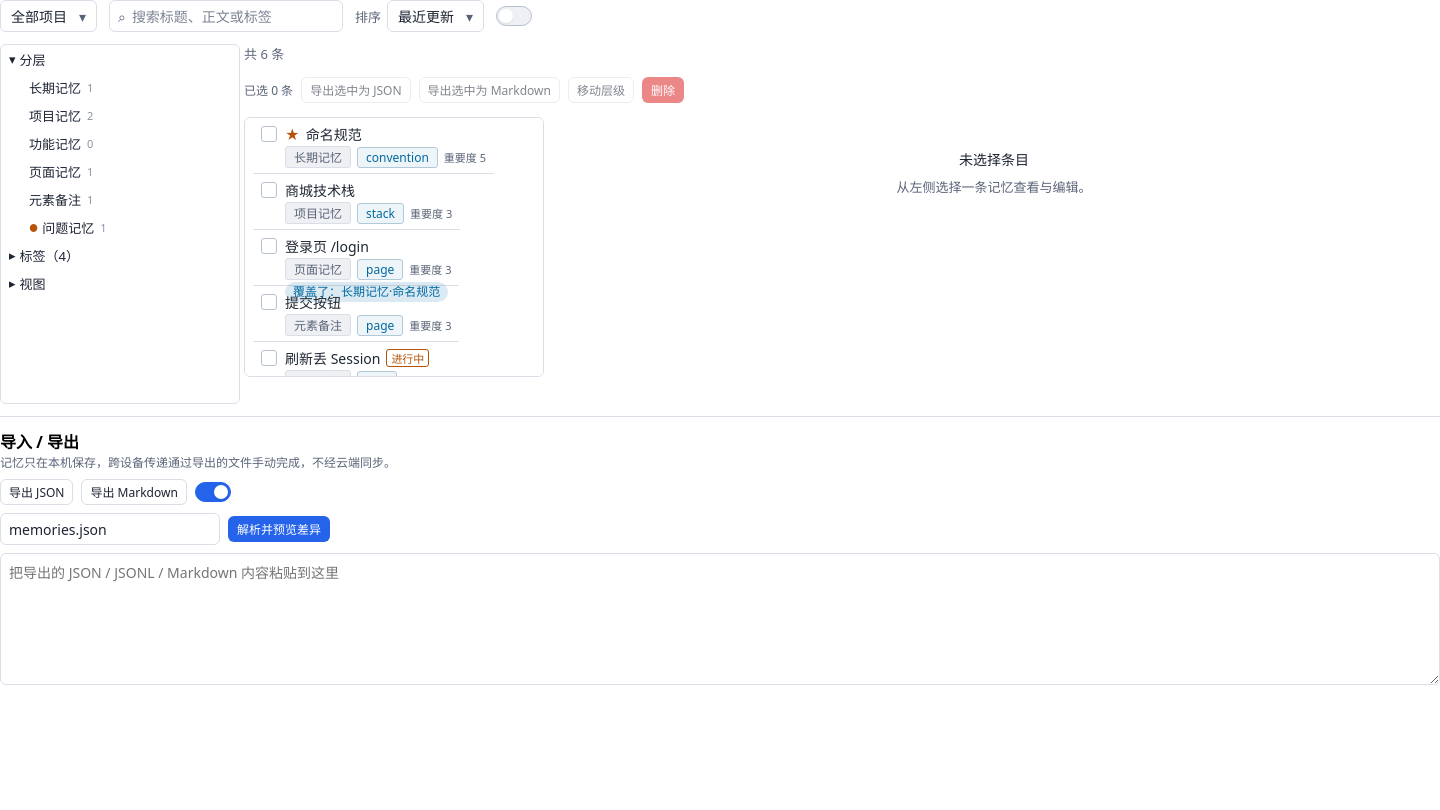
Test case: 记忆中心 › 取消二次确认时不会删除任何条目
What coordinates should you click on to do the following:
click the checkbox named "选择「命名规范」"
I would click on:
 (269, 134)
Its box is [261,126,277,142].
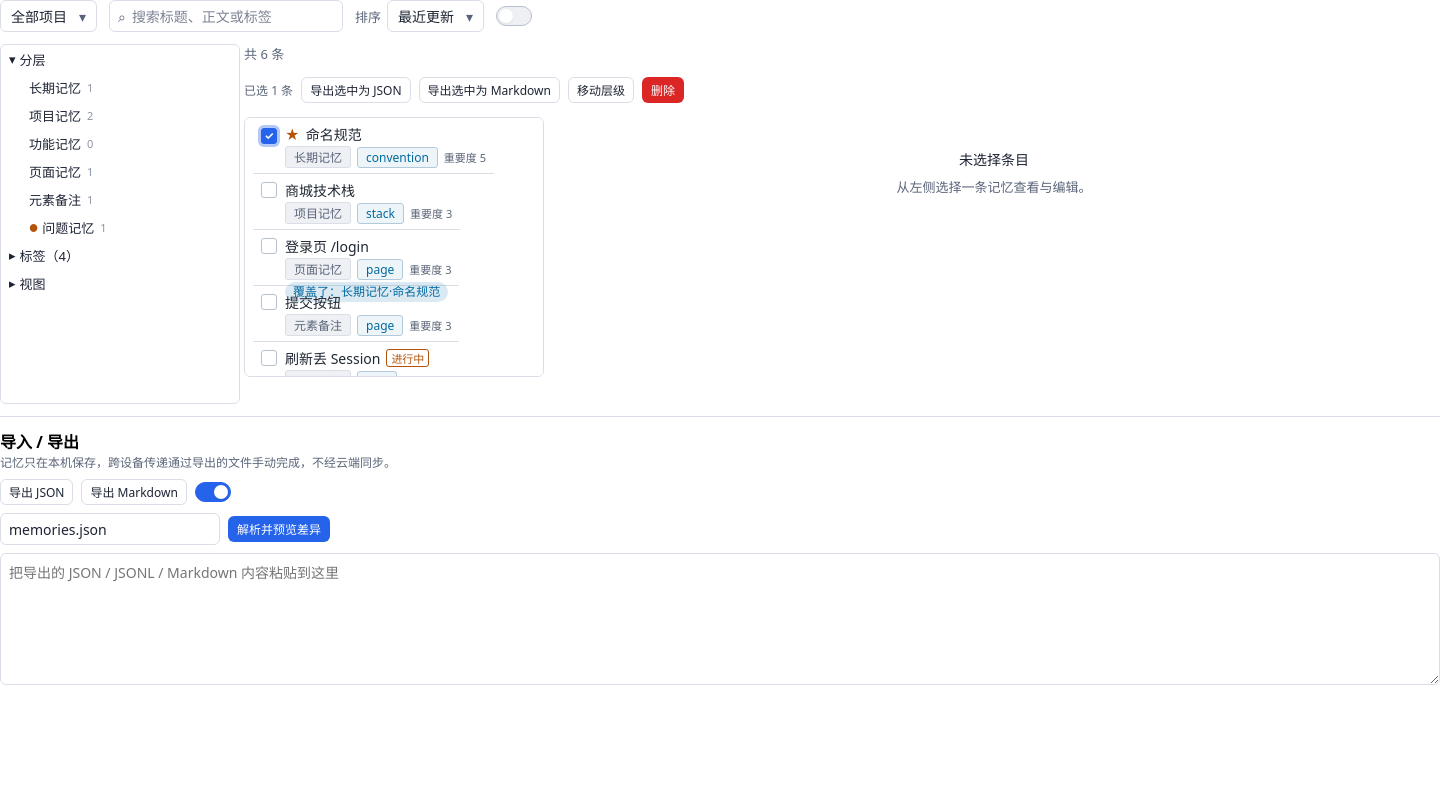
What coordinates should you click on to do the following:
click the button "删除"
I would click on:
 (663, 90)
Its box is [642,77,684,103].
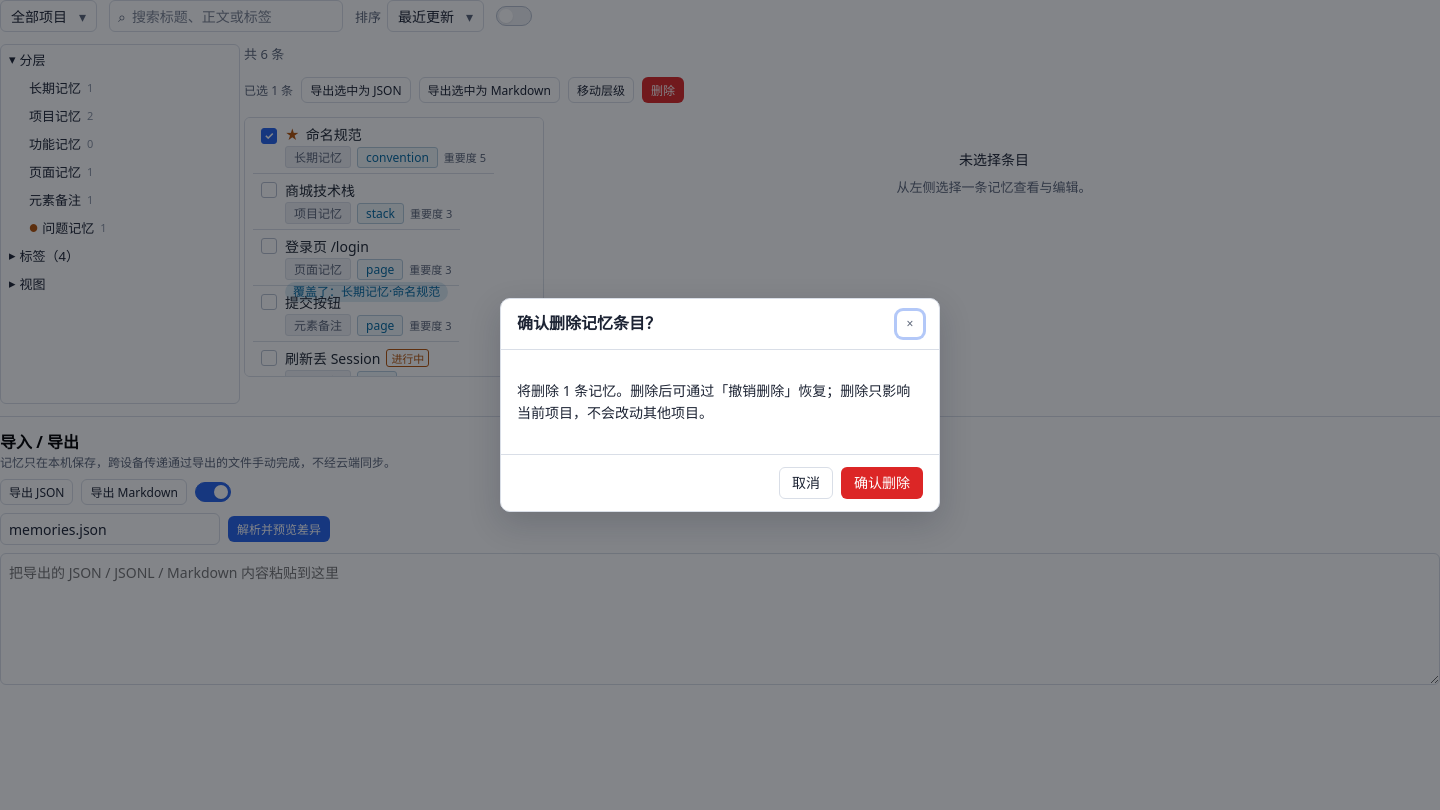
What coordinates should you click on to do the following:
click the button "取消"
I would click on:
 (806, 483)
Its box is [779,467,833,499].
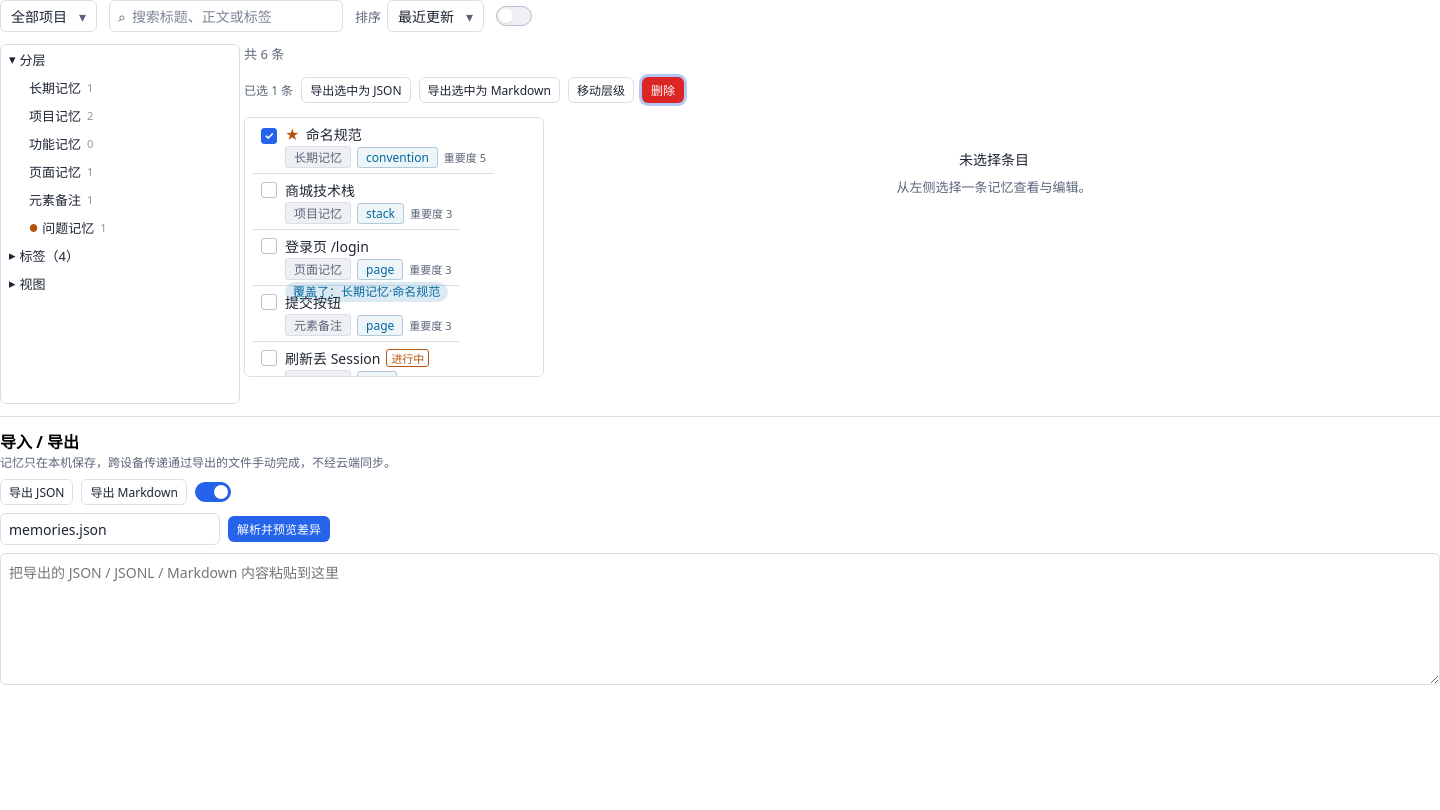
Now the dialog is gone
